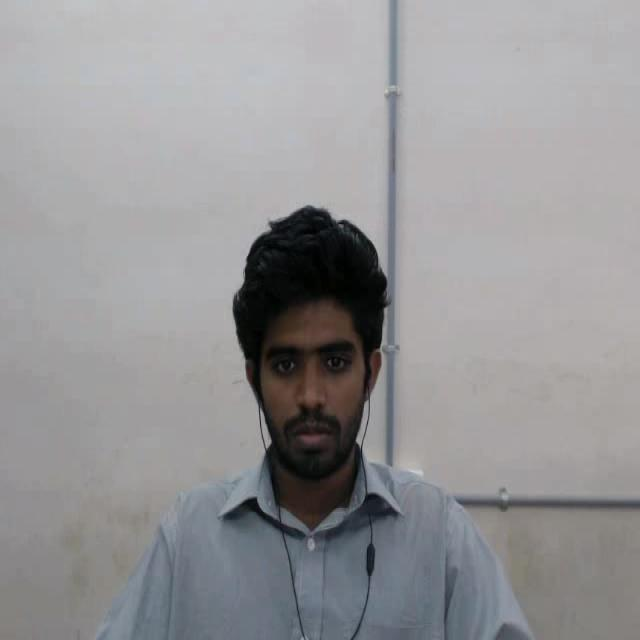Engaged: (208, 200, 434, 510)
